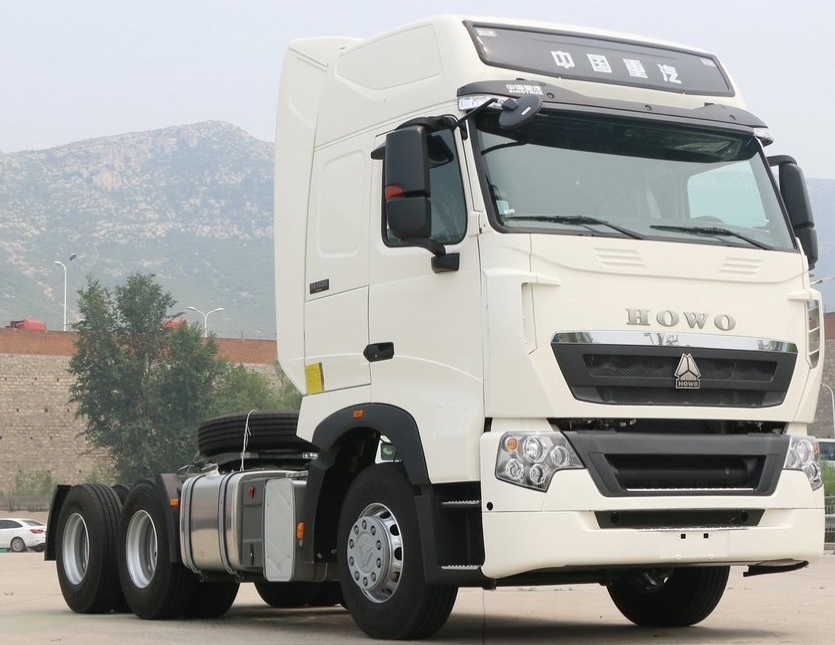heavy truck: (67, 30, 818, 636)
